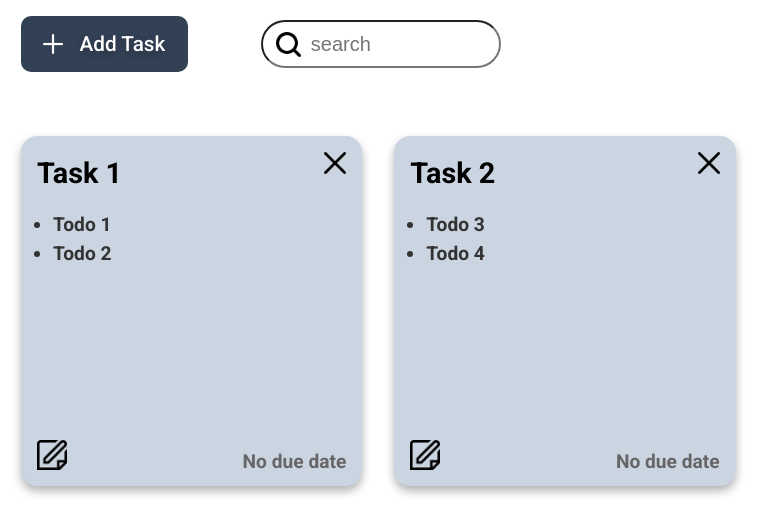
Scenario: Task Component › renders search bar and filters tasks
This screenshot has width=758, height=513.
Expected: the heading "Task 1" is shown, [37, 156, 122, 190]
Expected: the heading "Task 2" is shown, [410, 156, 495, 190]
Note: Simulate search for 'Task 1'
Type "Task 1" into the search field with placeholder "search". click: (381, 44)
box: [261, 20, 501, 68]
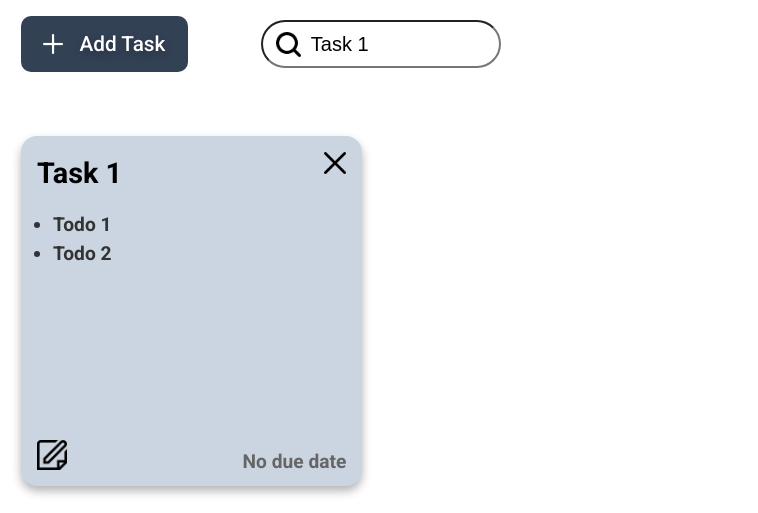
Expected: the heading "Task 1" is shown, [37, 156, 122, 190]
Expected: the heading "Task 2" is gone
Replace the text in the search field with placeholder "search" with "Todo 3". click: (381, 44)
box: [261, 20, 501, 68]
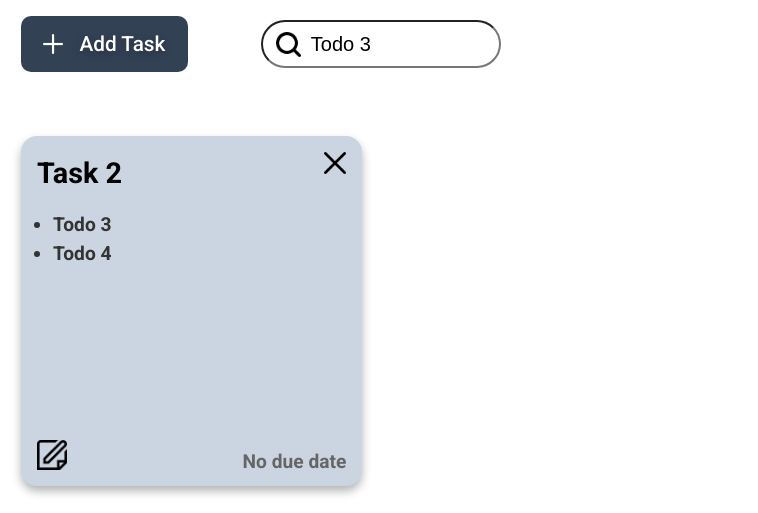
Expected: the heading "Task 1" is gone
Expected: the heading "Task 2" is shown, [37, 156, 122, 190]
Note: Clear search
Clear the search field with placeholder "search". click: (381, 44)
box: [261, 20, 501, 68]
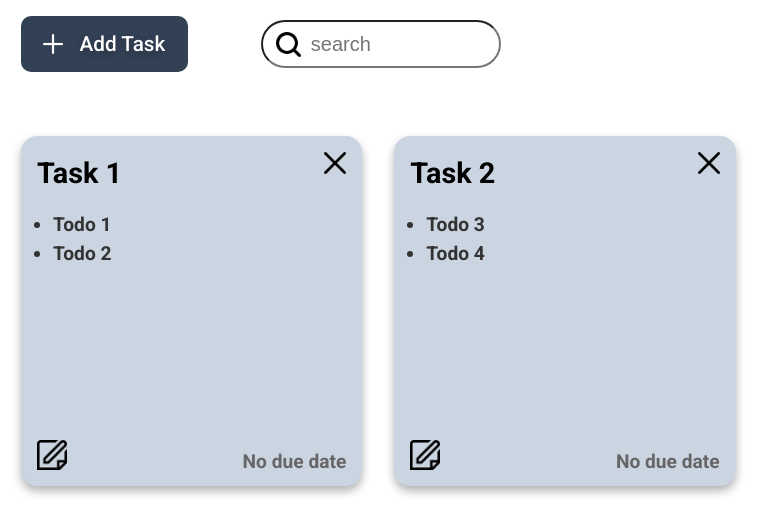
Expected: the heading "Task 2" is shown, [410, 156, 495, 190]
Expected: the heading "Task 1" is shown, [37, 156, 122, 190]
